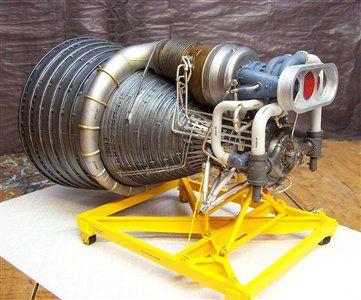thruster: (15, 33, 219, 192)
